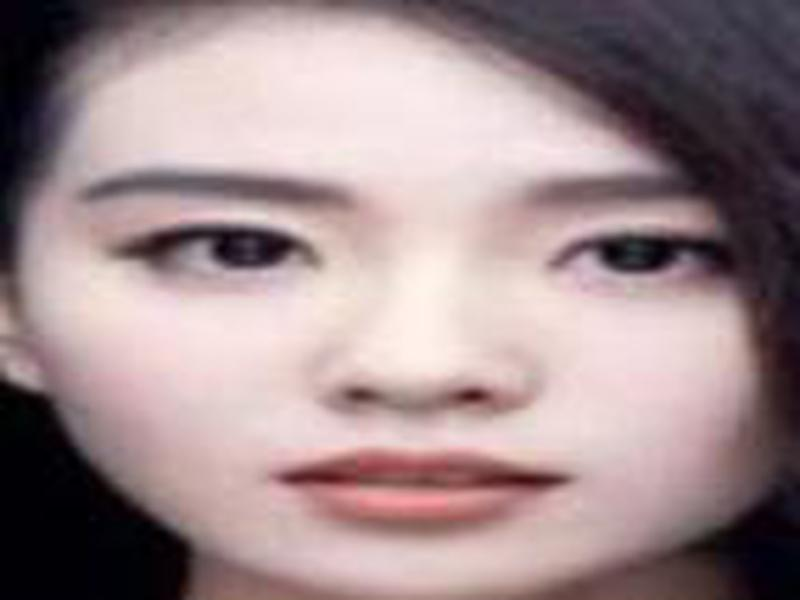without_mask: (42, 61, 765, 576)
